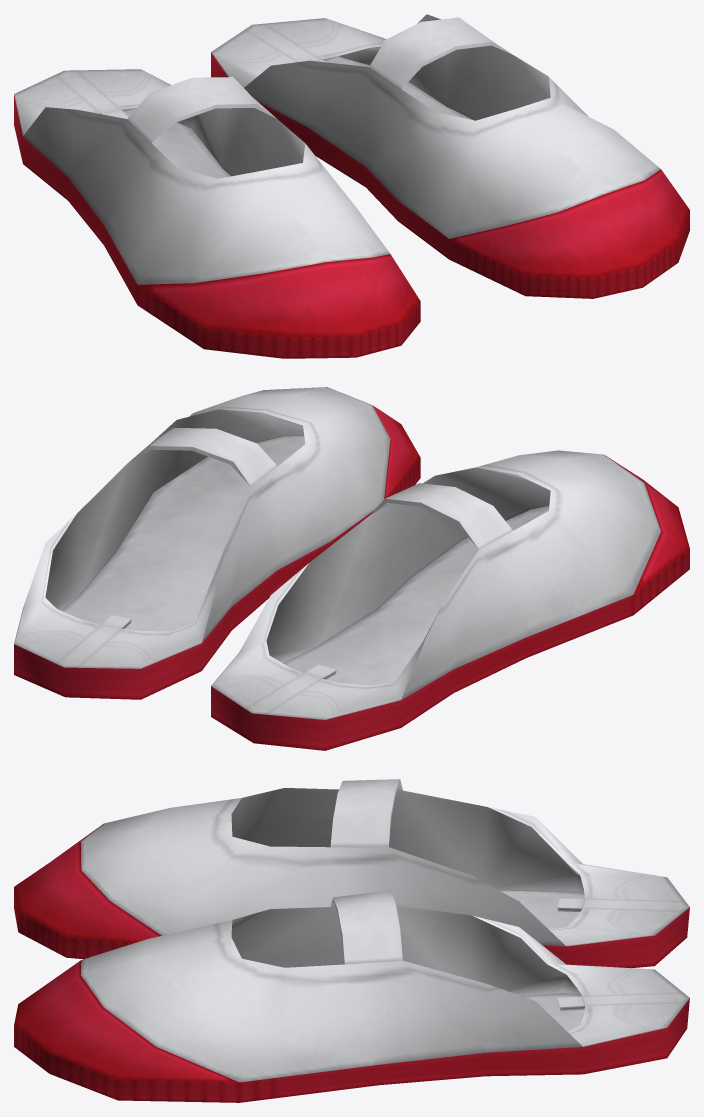
Rendered from set_indoorshoes_03_b.fbx.
The picture shows the model from 3 angles, top to bottom: view 1: azimuth 30°, elevation 25°; view 2: azimuth 150°, elevation 25°; view 3: azimuth 270°, elevation 25°; orthographic projection.
Parts seen in each view (by area): view 1: indoorshoes_03_b_L, indoorshoes_03_b_R; view 2: indoorshoes_03_b_R, indoorshoes_03_b_L; view 3: indoorshoes_03_b_L, indoorshoes_03_b_R.
Part boxes in pixels (x1,y1,x2,y2): indoorshoes_03_b_L: (211, 14, 689, 298); indoorshoes_03_b_R: (14, 69, 420, 358); indoorshoes_03_b_R: (211, 450, 689, 750); indoorshoes_03_b_L: (14, 387, 420, 699); indoorshoes_03_b_L: (14, 890, 689, 1102); indoorshoes_03_b_R: (14, 779, 689, 967).
Bounding box in the file's own units: 21.31 × 5.65 × 25.41.
